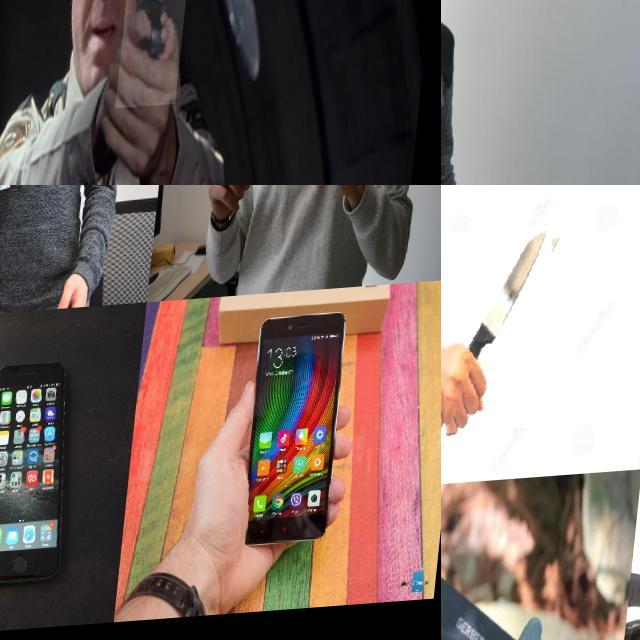-: (441, 485, 640, 640), (441, 227, 574, 436), (441, 139, 480, 185)
gun-knife-thesis - v11 Yolov5 augmented: (123, 0, 195, 113)
